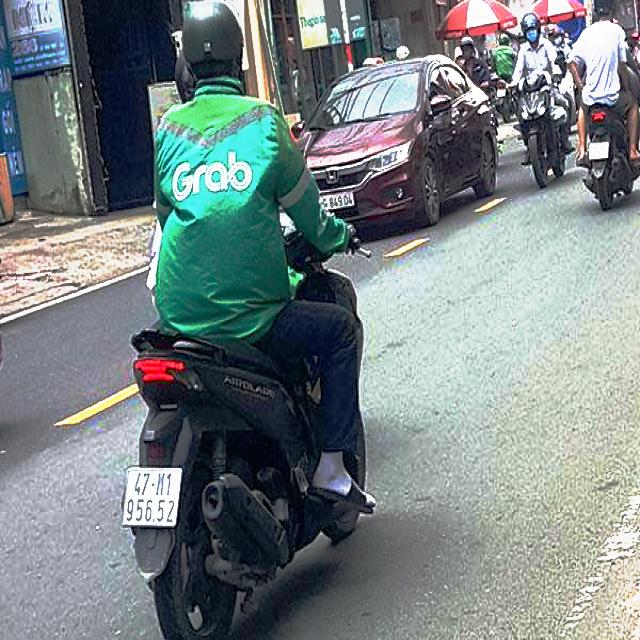license_plate: (123, 470, 182, 527)
